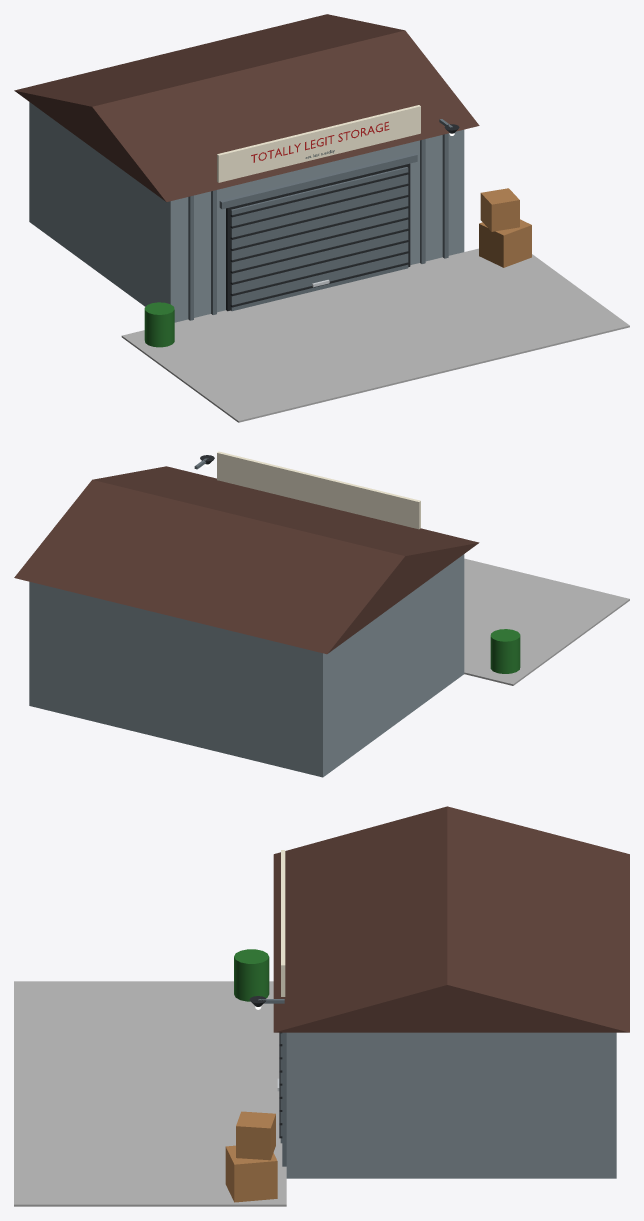
File: hustle_safehouse.glb
3 views of the same model, one above another, from view 1: azimuth 30°, elevation 25°; view 2: azimuth 150°, elevation 25°; view 3: azimuth 270°, elevation 25° (orthographic). The views are drawn at different scales.
Visible parts, largest first — view 1: Safehouse_body, Door; view 2: Safehouse_body; view 3: Safehouse_body.
Boxes of the visible parts, bbox=[...] form: Safehouse_body: bbox=[14, 14, 629, 422]; Door: bbox=[230, 167, 408, 311]; Safehouse_body: bbox=[14, 451, 629, 777]; Safehouse_body: bbox=[14, 806, 629, 1206].
Bounding box in the file's own units: 12 × 5 × 14.
